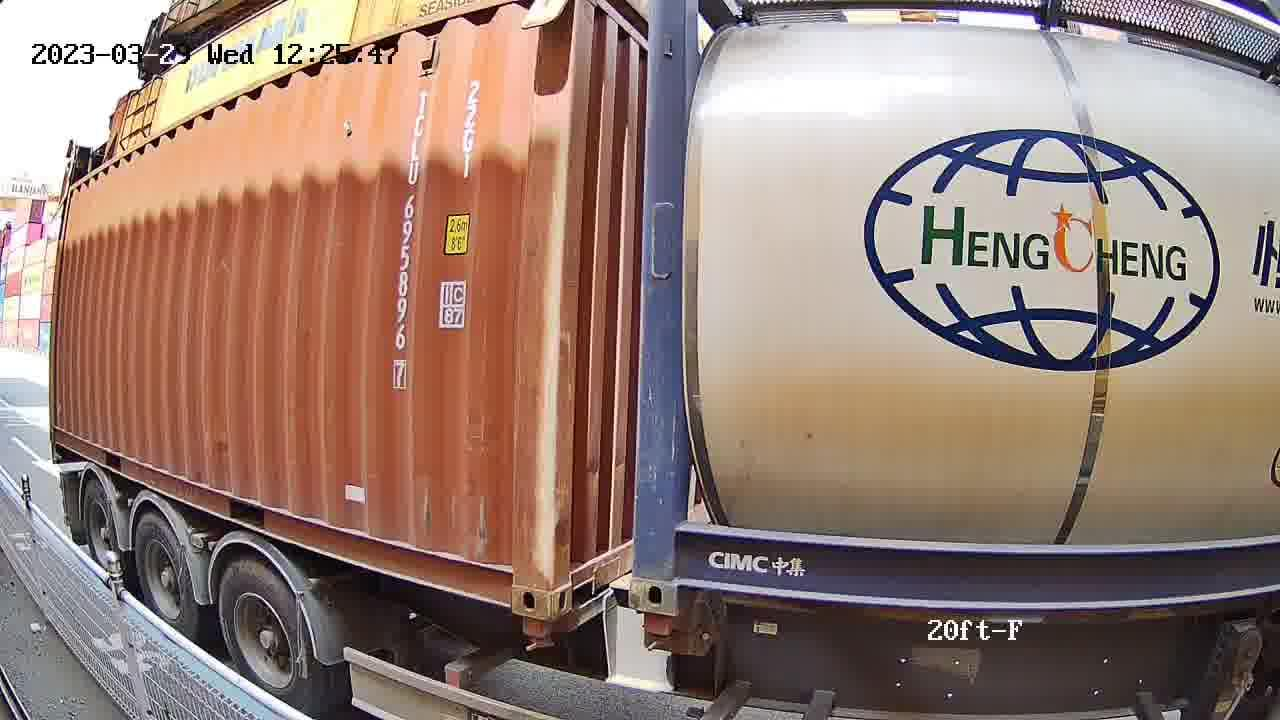Cone: (642, 613, 678, 653), (519, 614, 554, 652)
Hole_L: (628, 540, 726, 620), (549, 537, 598, 622)
Hole_R: (483, 547, 553, 619)
Tire: (219, 562, 314, 710), (136, 514, 197, 640), (83, 482, 125, 576)
